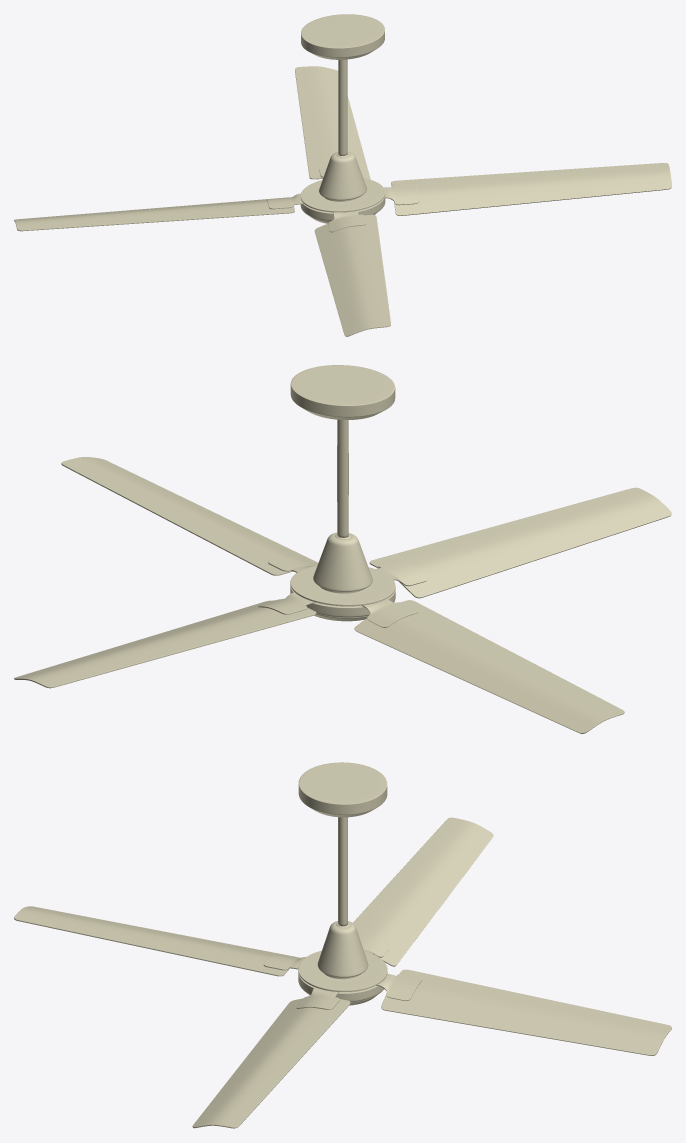
File: ventiladorcaferteria.glb
3 renders of one model, top to bottom at view 1: azimuth 30°, elevation 25°; view 2: azimuth 150°, elevation 25°; view 3: azimuth 270°, elevation 25°, orthographic. The views are drawn at different scales.
Parts seen in each view (by area): view 1: ventilador cafeteria.028, ventilador cafeteria.022, ventilador cafeteria.010, ventilador cafeteria.016, ventilador cafeteria, ventilador cafeteria.002, ventilador cafeteria.001, ventilador cafeteria.023, ventilador cafeteria.004, ventilador cafeteria.017; view 2: ventilador cafeteria.022, ventilador cafeteria.016, ventilador cafeteria.028, ventilador cafeteria.010, ventilador cafeteria, ventilador cafeteria.002, ventilador cafeteria.001, ventilador cafeteria.011, ventilador cafeteria.004, ventilador cafeteria.017, ventilador cafeteria.005; view 3: ventilador cafeteria.010, ventilador cafeteria.016, ventilador cafeteria.028, ventilador cafeteria.022, ventilador cafeteria.002, ventilador cafeteria, ventilador cafeteria.001, ventilador cafeteria.005, ventilador cafeteria.004, ventilador cafeteria.023.
Part boxes in pixels (bbox=[...]): ventilador cafeteria.028: bbox=[391, 163, 671, 215]; ventilador cafeteria.022: bbox=[314, 214, 390, 336]; ventilador cafeteria.010: bbox=[295, 66, 370, 179]; ventilador cafeteria.016: bbox=[14, 198, 294, 231]; ventilador cafeteria: bbox=[300, 151, 385, 212]; ventilador cafeteria.002: bbox=[301, 14, 384, 59]; ventilador cafeteria.001: bbox=[338, 59, 347, 155]; ventilador cafeteria.023: bbox=[384, 183, 419, 205]; ventilador cafeteria.004: bbox=[300, 198, 385, 223]; ventilador cafeteria.017: bbox=[328, 210, 366, 232]; ventilador cafeteria.022: bbox=[369, 487, 671, 598]; ventilador cafeteria.016: bbox=[354, 600, 624, 733]; ventilador cafeteria.028: bbox=[61, 457, 318, 575]; ventilador cafeteria.010: bbox=[14, 600, 316, 688]; ventilador cafeteria: bbox=[290, 532, 395, 606]; ventilador cafeteria.002: bbox=[290, 365, 395, 419]; ventilador cafeteria.001: bbox=[337, 419, 348, 537]; ventilador cafeteria.011: bbox=[361, 599, 417, 627]; ventilador cafeteria.004: bbox=[290, 585, 395, 621]; ventilador cafeteria.017: bbox=[375, 559, 427, 586]; ventilador cafeteria.005: bbox=[258, 592, 315, 614]; ventilador cafeteria.010: bbox=[381, 969, 671, 1055]; ventilador cafeteria.016: bbox=[353, 817, 493, 966]; ventilador cafeteria.028: bbox=[192, 998, 350, 1128]; ventilador cafeteria.022: bbox=[14, 906, 300, 976]; ventilador cafeteria.002: bbox=[298, 762, 387, 817]; ventilador cafeteria: bbox=[298, 921, 387, 991]; ventilador cafeteria.001: bbox=[338, 817, 347, 926]; ventilador cafeteria.005: bbox=[376, 973, 422, 1000]; ventilador cafeteria.004: bbox=[298, 972, 383, 1005]; ventilador cafeteria.023: bbox=[296, 987, 339, 1009].
Size of the model in its own units: 1.94 by 0.5983 by 1.74.
